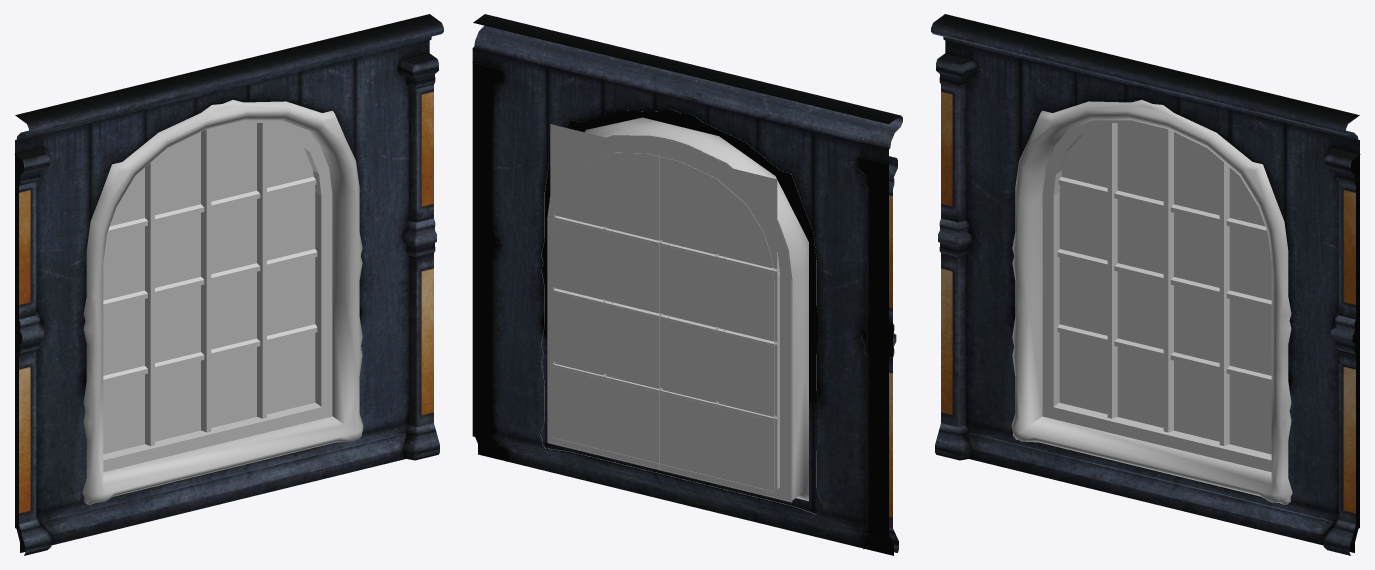
File: window02_large_blue_blue.dae
3 renders of one model, left to right at view 1: azimuth 30°, elevation 25°; view 2: azimuth 150°, elevation 25°; view 3: azimuth 330°, elevation 25°, orthographic.
Visible parts, largest first — view 1: window02_large_blue1, window02_large_frame3, window02_large_glass_yellow5; view 2: window02_large_blue1, window02_large_glass_yellow5, window02_large_frame3; view 3: window02_large_blue1, window02_large_frame3, window02_large_glass_yellow5.
Part boxes in pixels (x1,y1,x2,y2): window02_large_blue1: (14, 14, 443, 555); window02_large_frame3: (82, 100, 363, 504); window02_large_glass_yellow5: (103, 123, 315, 454); window02_large_blue1: (472, 14, 902, 555); window02_large_glass_yellow5: (550, 124, 777, 496); window02_large_frame3: (540, 110, 820, 514); window02_large_blue1: (931, 14, 1360, 555); window02_large_frame3: (1011, 100, 1292, 504); window02_large_glass_yellow5: (1059, 123, 1271, 454).
Bounding box in the file's own units: 4 × 4 × 0.5209.
